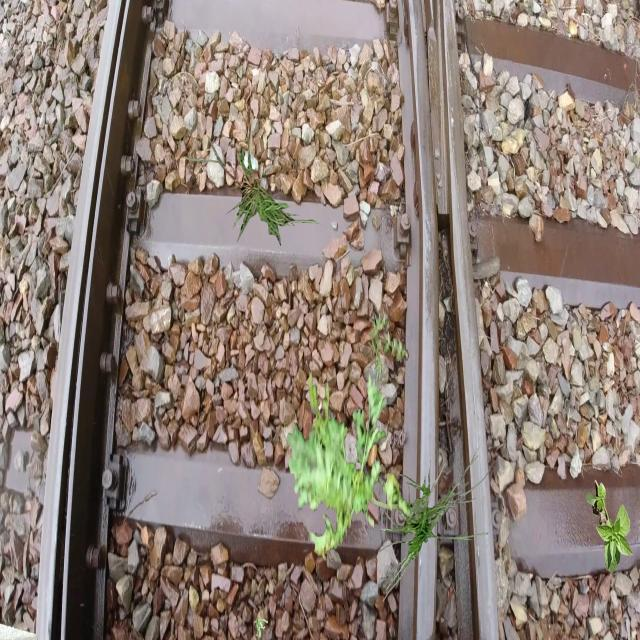Plant: (286, 368, 411, 564), (372, 439, 490, 602), (185, 127, 328, 246), (586, 480, 634, 575), (368, 311, 410, 382), (254, 618, 268, 638)
